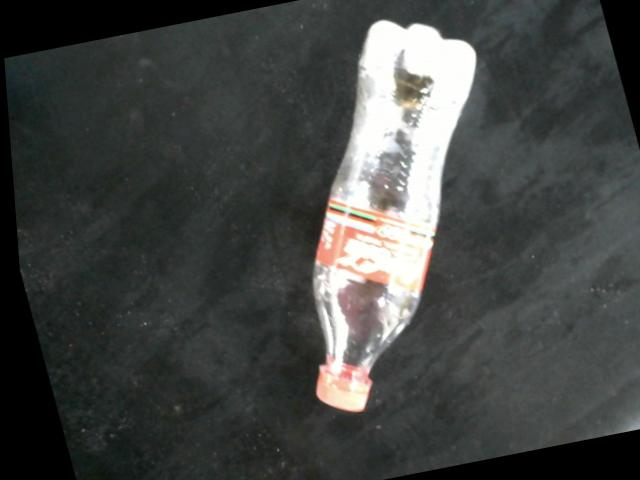bottle: (306, 17, 475, 413)
